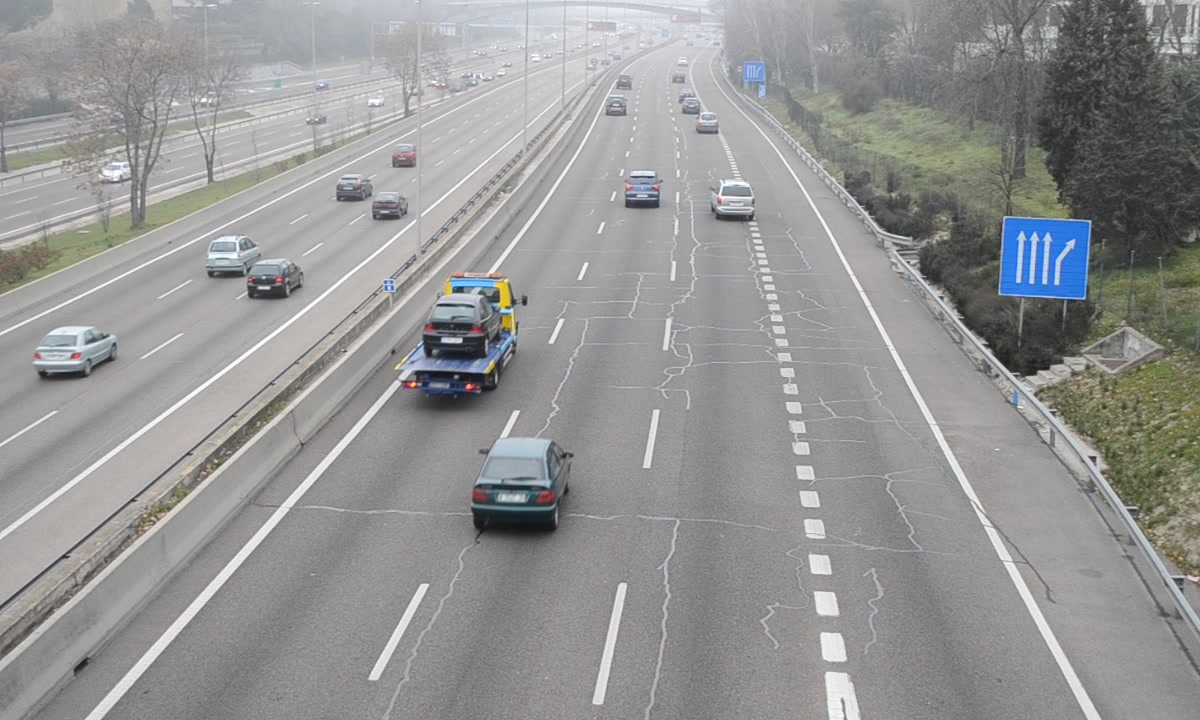car: (472, 439, 570, 523), (712, 179, 757, 217), (624, 170, 660, 208), (697, 109, 718, 136), (604, 93, 626, 117)
small-truck: (395, 273, 519, 396)
